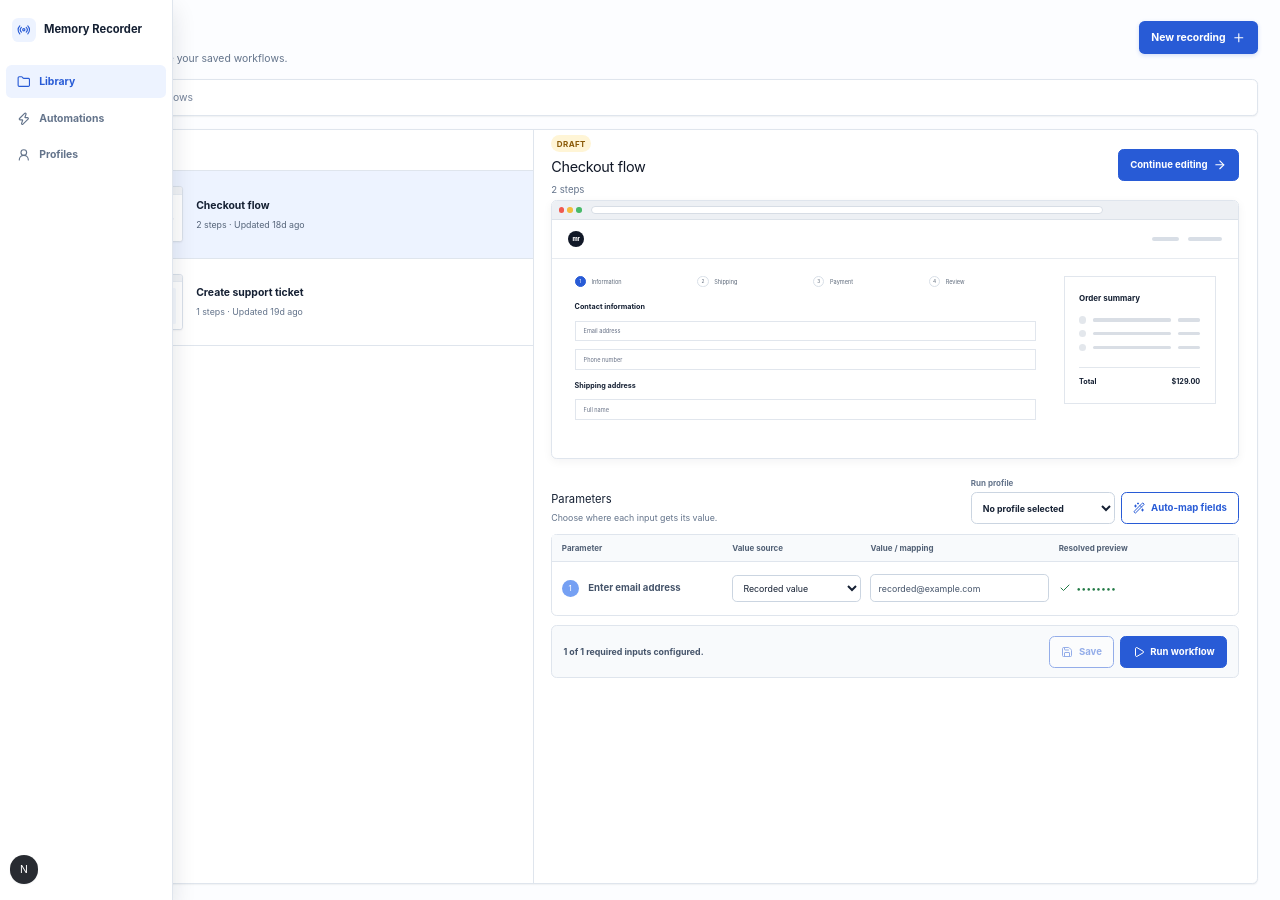
Test case: LibraryScreen › retries a selected profile detail load without losing the selection
Select "Alex · US · Ready" in the dropdown labelled "Run profile" at {"x": 1043, "y": 508}, box [971, 492, 1115, 524]
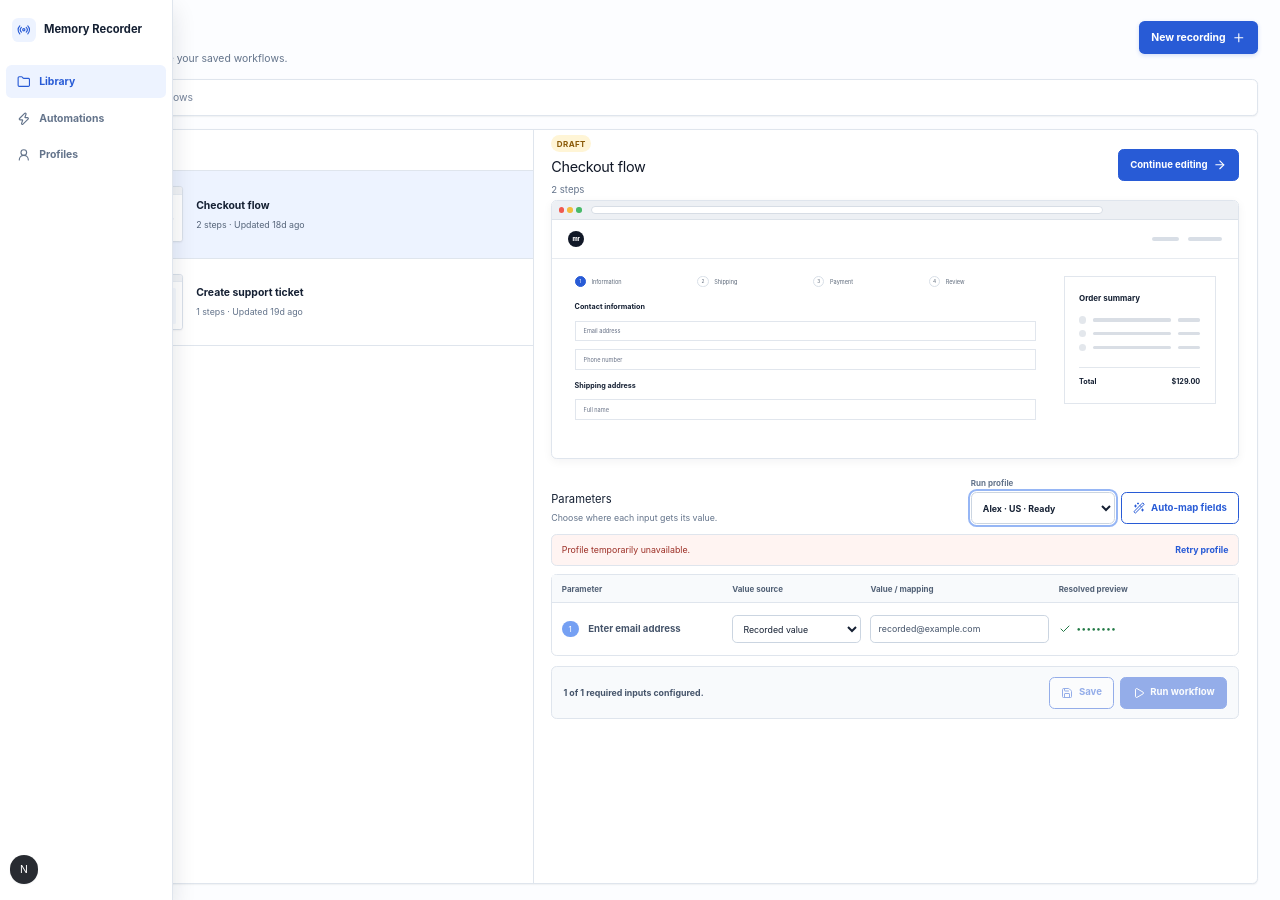
Now the message shows "Profile temporarily unavailable", box [562, 544, 690, 556]
Click the button "Retry profile" at {"x": 1202, "y": 550}, box [1175, 544, 1228, 557]
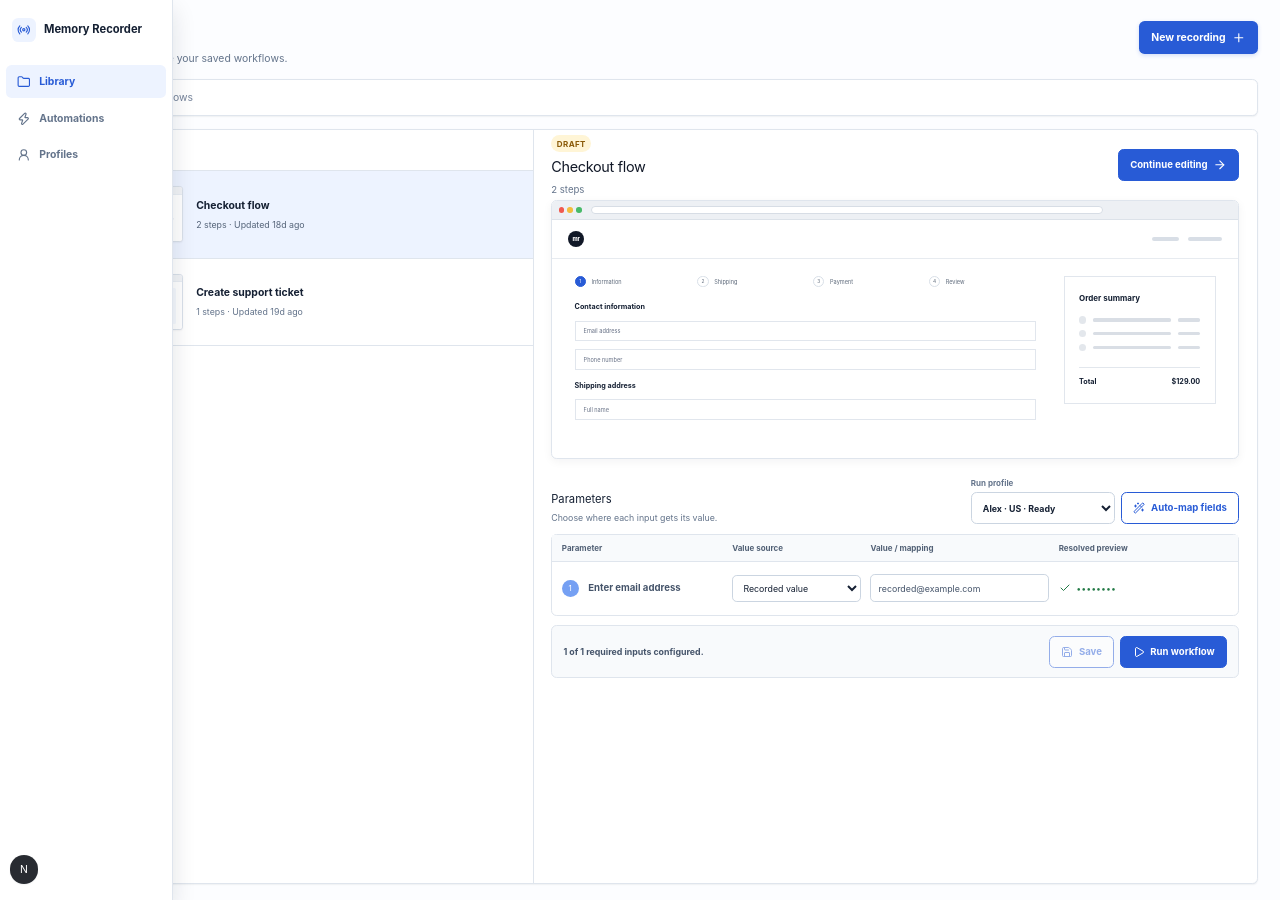
Now the text "Profile temporarily unavailable." is gone
